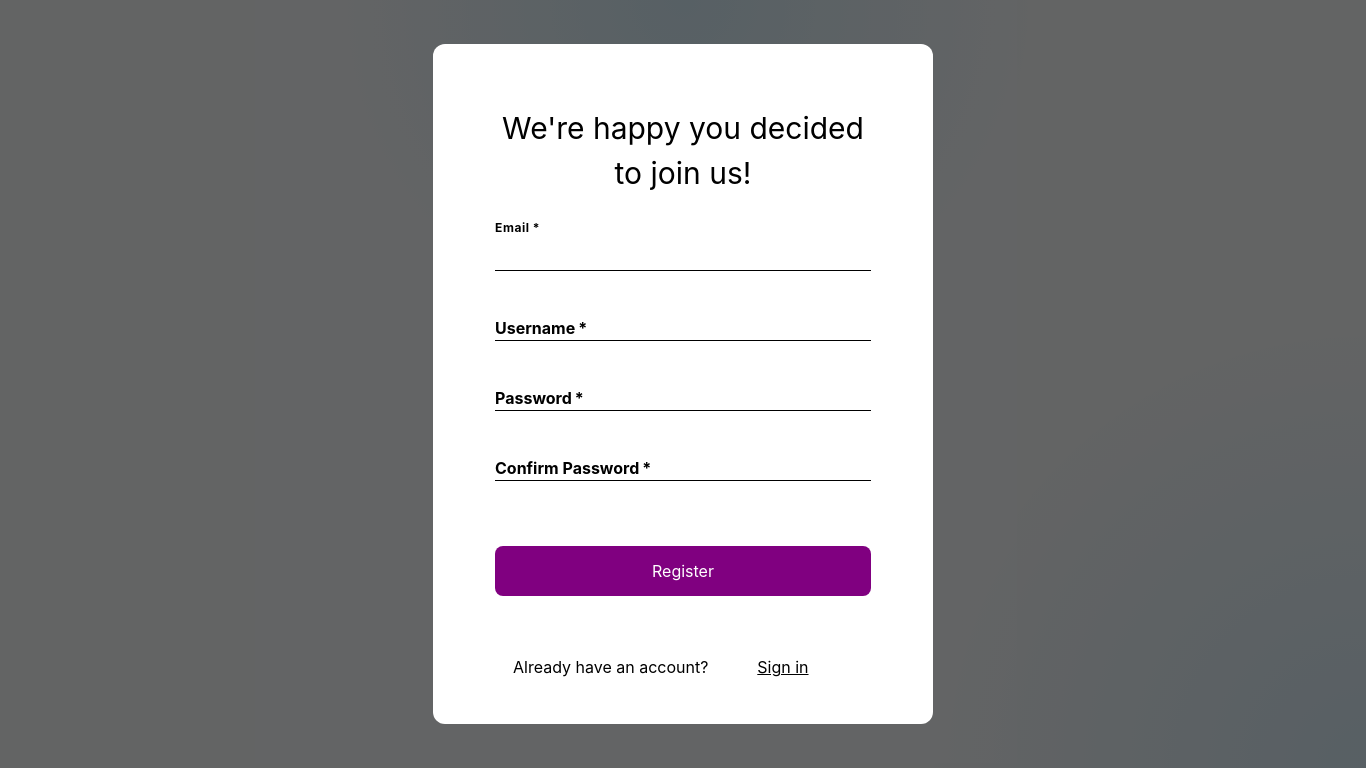
Test: UserAccessModal › switches between the registration and sign in forms
What coordinates should you click on to do the following:
click the button "Sign in"
I would click on:
 (783, 667)
Its box is [713,642,853,692].
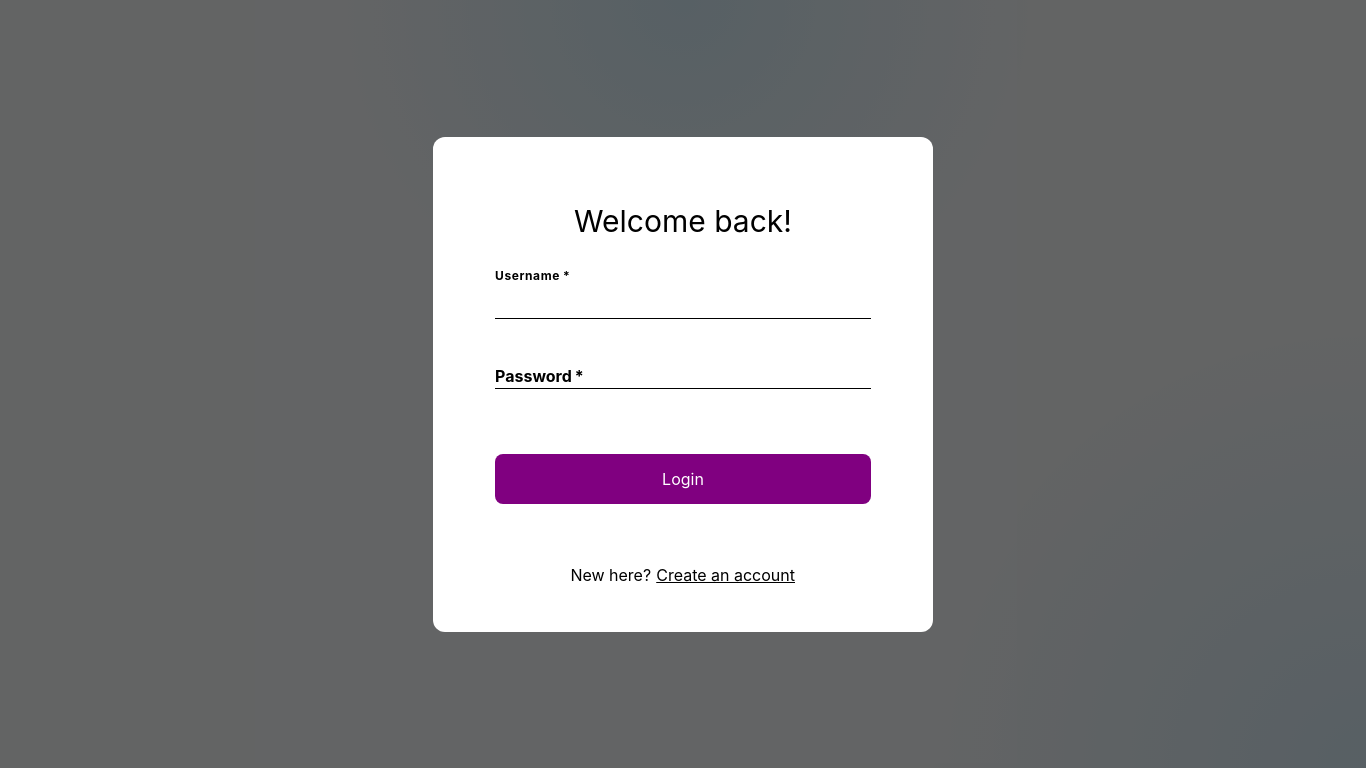
Expected: the heading "Welcome back!" is shown, [574,202,792,238]
What coordinates should you click on to do the following:
click the button "Create an account"
I would click on:
 (726, 574)
Its box is [656,550,796,600].
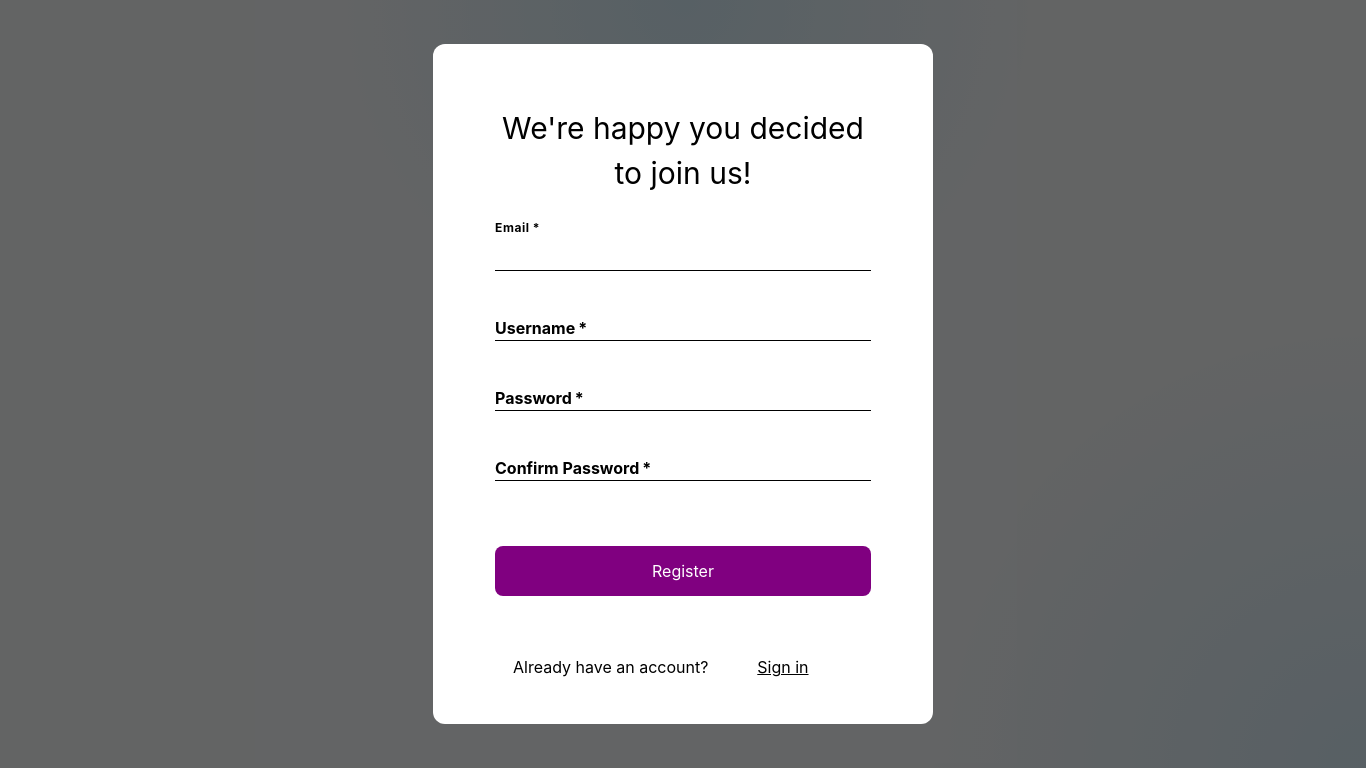
Expected: the heading "We're happy you decided to join us!" is shown, [495,106,871,196]
